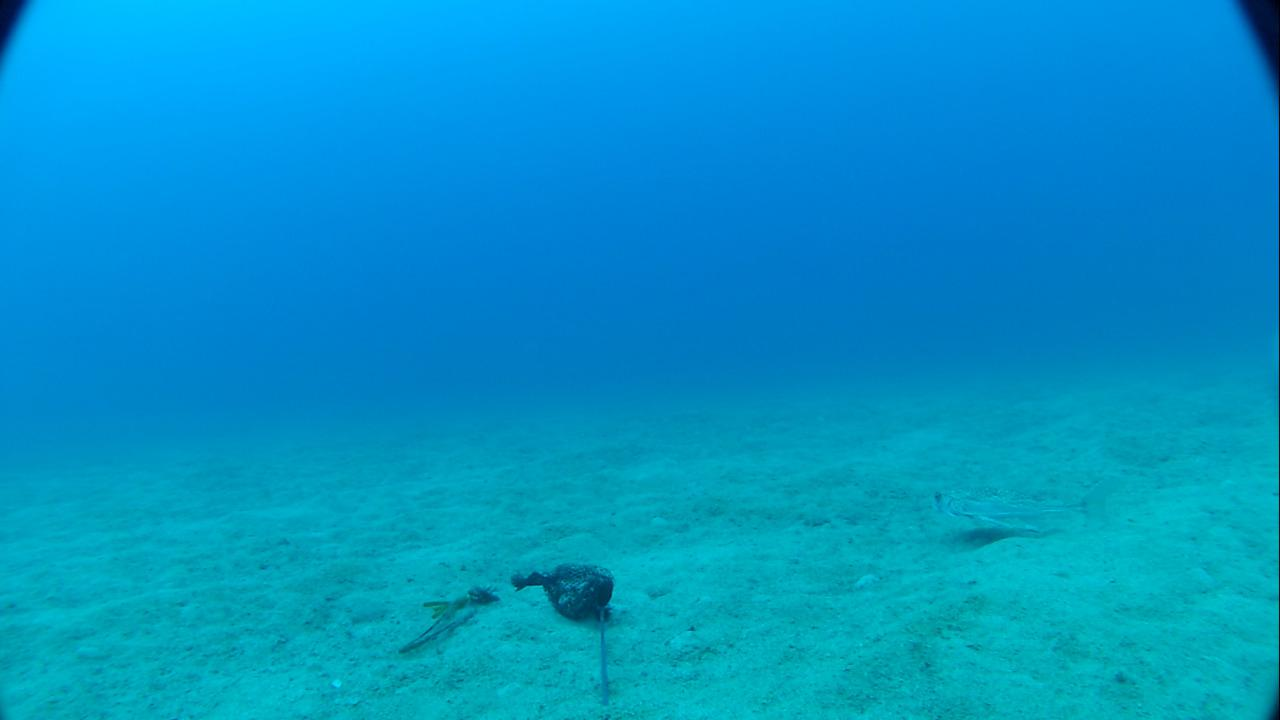dactylopterus: (927, 477, 1117, 542)
